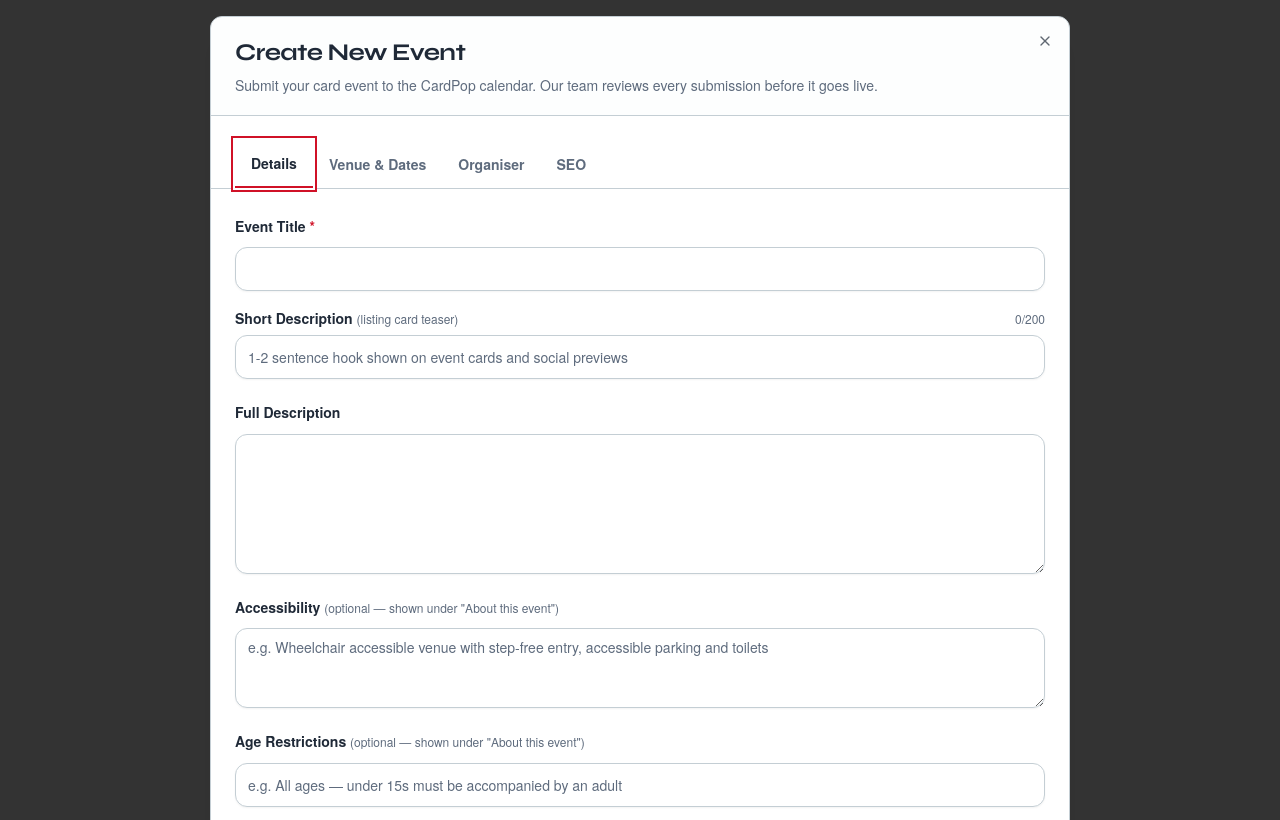
EventFormModal — user/admin field parity › shows the video fields in user mode: the YouTube list on Details, Facebook on Organiser
Radix only mounts the active tab's content — switch to Organiser first.
Press the mouse on the tab "Organiser" at (491,164), box x1=442 y1=140 x2=540 y2=188
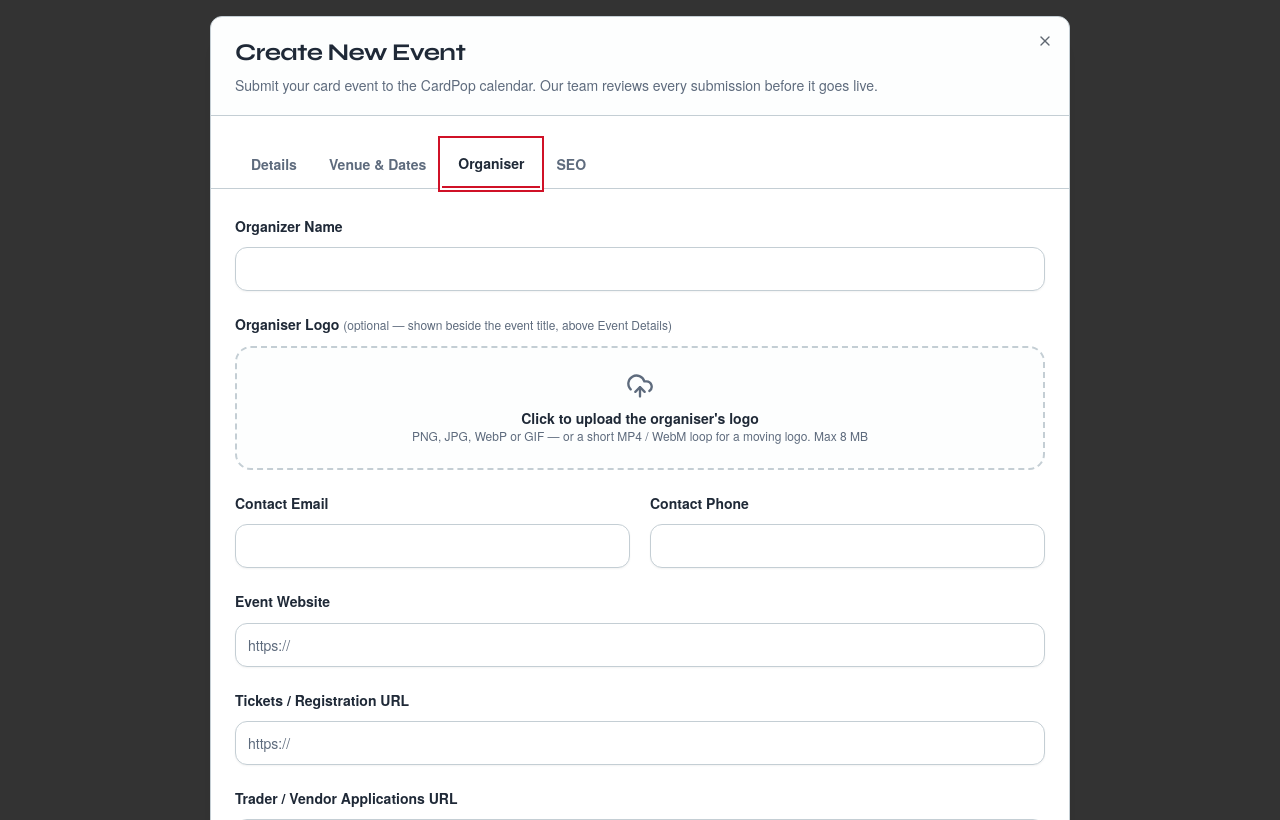
Click the tab "Organiser".
click(491, 164)  # box x1=442 y1=140 x2=540 y2=188
(page scrolled)
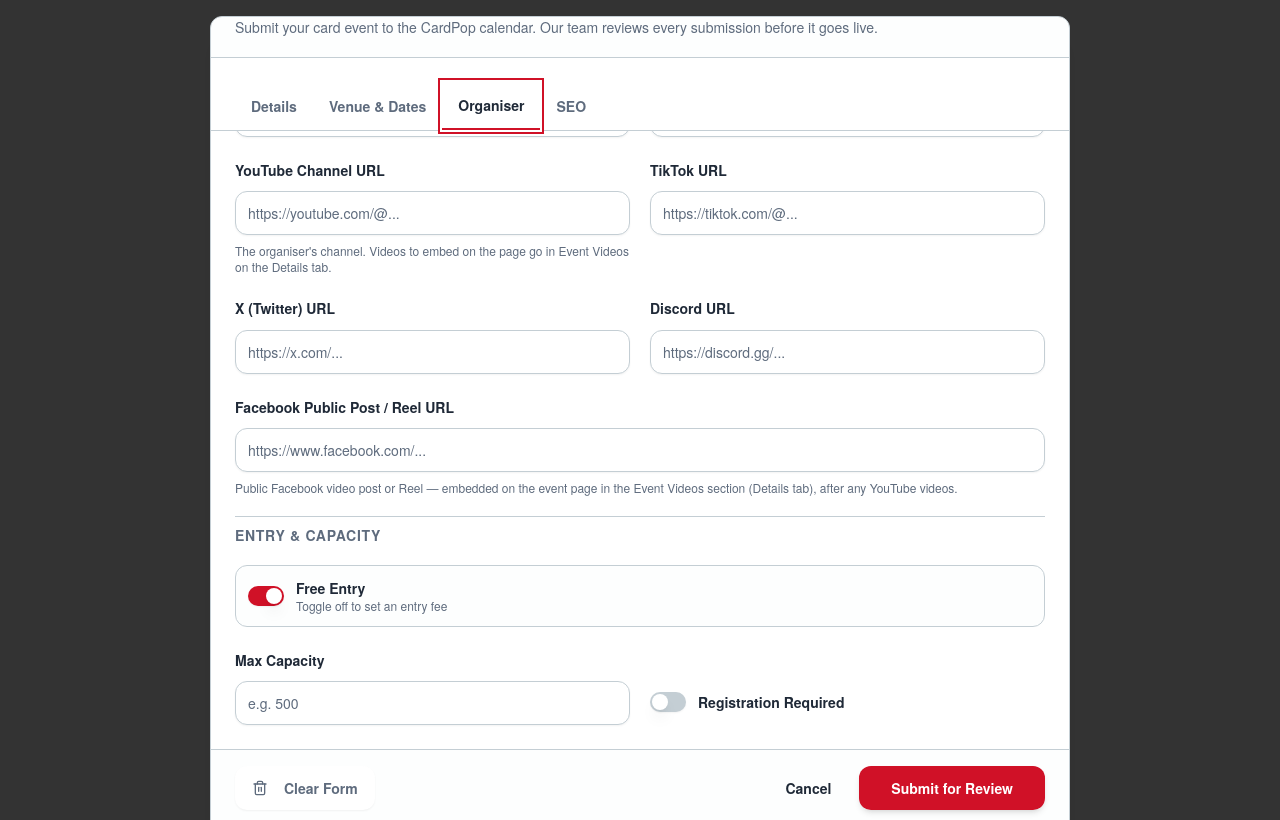
expect the field labelled "Facebook Public Post / Reel URL" is shown: met, box x1=235 y1=428 x2=1045 y2=472
